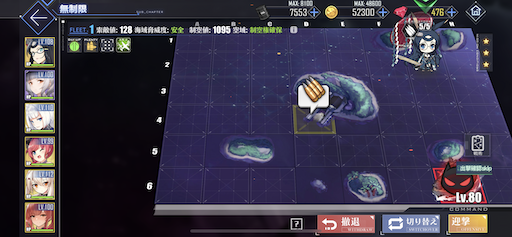boss: (433, 165, 486, 204)
